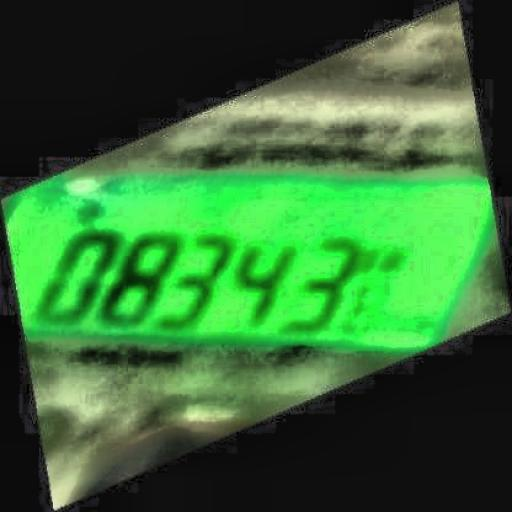DISPLAY_REGION: (0, 158, 506, 364)
SERIAL_REGION: (35, 220, 426, 342)
